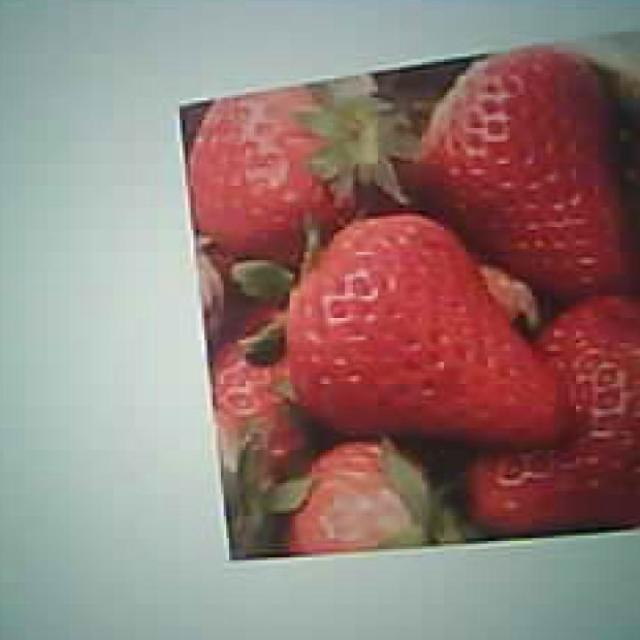Healthy Fruit: (283, 211, 583, 447), (415, 46, 629, 282), (477, 294, 640, 530), (186, 83, 364, 248), (285, 439, 427, 550)
